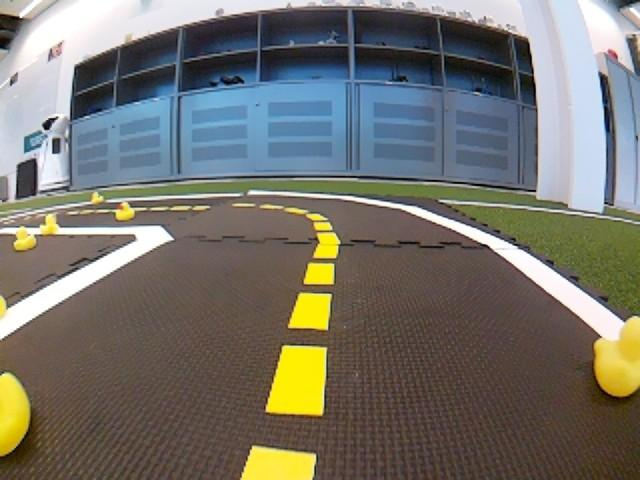Duckies: (591, 316, 639, 397), (0, 370, 29, 456), (14, 229, 36, 251), (115, 202, 136, 221), (38, 216, 59, 235), (92, 192, 104, 204)
